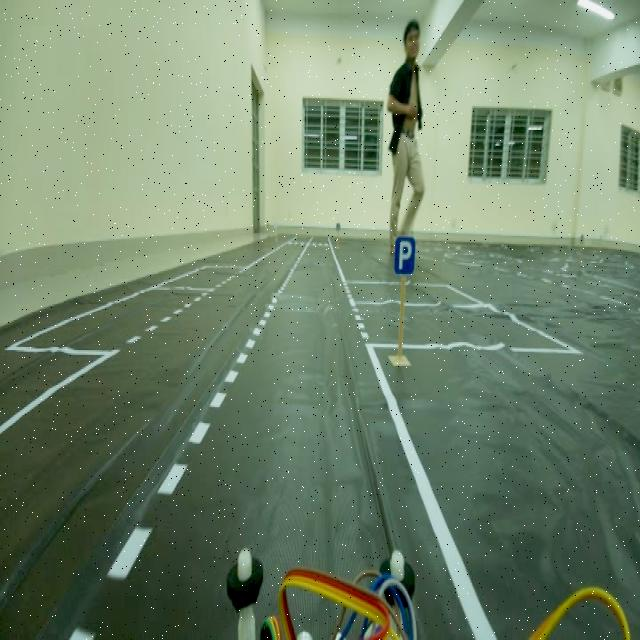parking: (391, 226, 415, 280)
